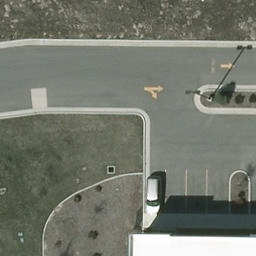car: (144, 176, 163, 215)
